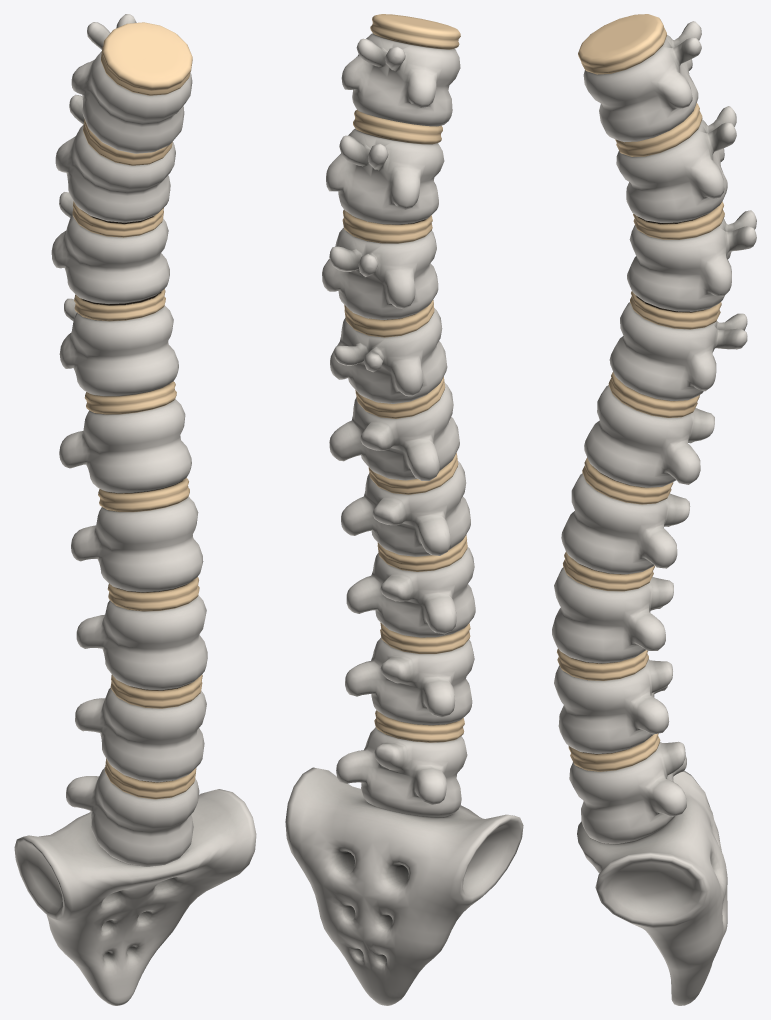
Rendered from spine.glb.
3 renders of one model, left to right at view 1: azimuth 30°, elevation 25°; view 2: azimuth 150°, elevation 25°; view 3: azimuth 270°, elevation 25°, orthographic.
Visible parts, largest first — view 1: Spine_0, Spine.001_2, CoccYx_1, Spine.002_4; view 2: Spine_0, CoccYx_1, Spine.001_2, Spine.002_4; view 3: Spine_0, Spine.001_2, CoccYx_1, Spine.002_4.
Boxes of the visible parts, bbox=[...] form: Spine_0: bbox=[59, 381, 207, 866]; Spine.001_2: bbox=[51, 94, 178, 396]; CoccYx_1: bbox=[14, 789, 256, 1005]; Spine.002_4: bbox=[71, 14, 192, 153]; Spine_0: bbox=[329, 377, 475, 817]; CoccYx_1: bbox=[285, 767, 523, 1005]; Spine.001_2: bbox=[322, 110, 447, 403]; Spine.002_4: bbox=[341, 14, 460, 126]; Spine_0: bbox=[552, 372, 714, 843]; Spine.001_2: bbox=[609, 103, 756, 400]; CoccYx_1: bbox=[577, 771, 727, 1005]; Spine.002_4: bbox=[578, 14, 701, 142].
Bounding box in the file's own units: 4.77 × 22.27 × 4.21.
Materials: 1 (1 with a texture image).
